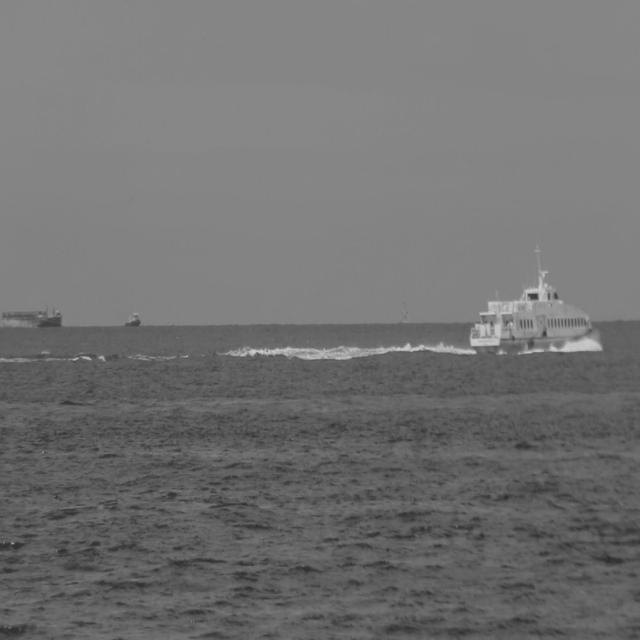ship: (464, 247, 594, 359), (1, 301, 62, 327)
